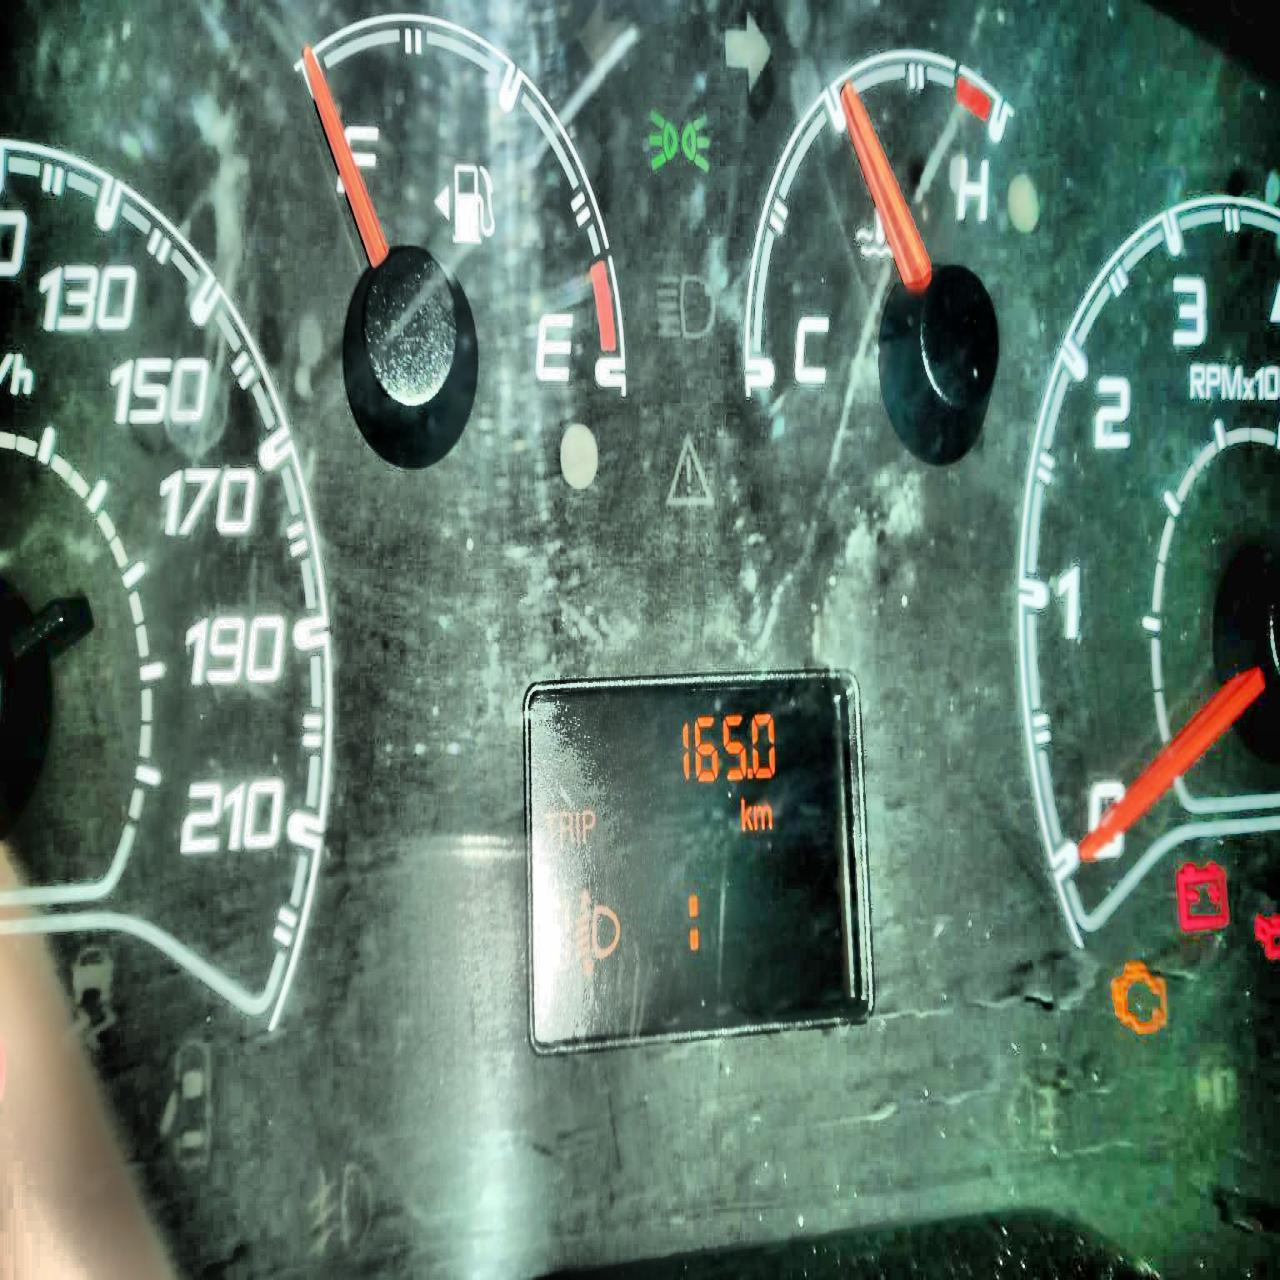-: (746, 766, 753, 779)
0: (751, 713, 776, 779)
1: (680, 720, 690, 782)
5: (721, 712, 747, 781)
6: (693, 714, 719, 782)
X: (687, 893, 700, 951), (752, 803, 772, 830), (544, 809, 558, 846), (581, 807, 595, 843), (559, 809, 573, 844), (740, 796, 752, 830), (573, 809, 580, 844)
odometer: (518, 662, 875, 1062)
